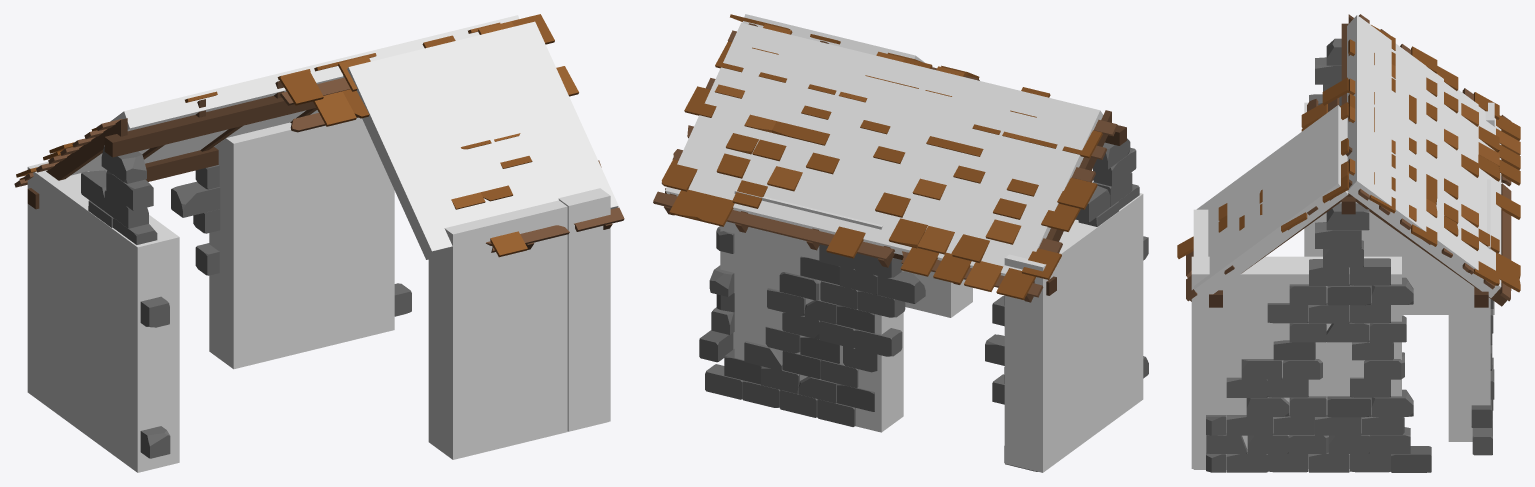
File: stone_house_broken_3.glb
The picture shows the model from 3 angles, left to right: view 1: azimuth 30°, elevation 25°; view 2: azimuth 150°, elevation 25°; view 3: azimuth 270°, elevation 25°; orthographic projection. The views are drawn at different scales.
Visible parts, largest first — view 1: Cube.002, Cube.005, Cube, Cube.004, House_03_LOD0, Cube.001, Cube.006; view 2: House_03_LOD0, Cube.006, Cube, Cube.002, Cube.004, Cube.005; view 3: House_03_LOD0, Cube.006, Cube.001, Cube.005, Cube.002, Cube, Cube.004.
Part boxes in pixels (x1,y1,x2,y2): Cube.002: [209, 117, 394, 369]; Cube.005: [343, 21, 618, 259]; Cube: [27, 161, 179, 472]; Cube.004: [428, 200, 606, 459]; House_03_LOD0: [14, 14, 624, 458]; Cube.001: [558, 188, 610, 431]; Cube.006: [71, 15, 519, 175]; House_03_LOD0: [653, 14, 1148, 471]; Cube.006: [665, 22, 1103, 275]; Cube: [1004, 193, 1143, 472]; Cube.002: [734, 190, 903, 432]; Cube.004: [903, 271, 972, 317]; Cube.005: [742, 14, 924, 62]; House_03_LOD0: [1177, 14, 1520, 472]; Cube.006: [1347, 15, 1501, 297]; Cube.001: [1191, 256, 1401, 468]; Cube.005: [1194, 105, 1348, 300]; Cube.002: [1448, 179, 1490, 441]; Cube: [1304, 102, 1494, 314]; Cube.004: [1193, 209, 1226, 469].
Size of the model in its own units: 6.88 by 5.06 by 5.39.
Materials: 1 (1 with a texture image).
